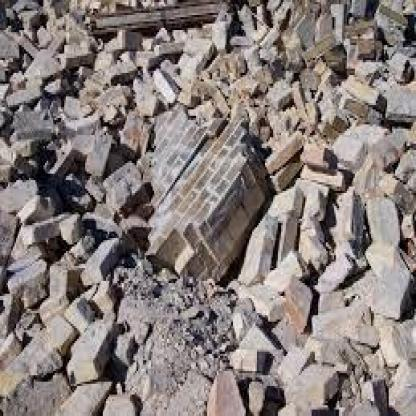brick: (114, 181, 275, 394), (93, 1, 268, 176)
